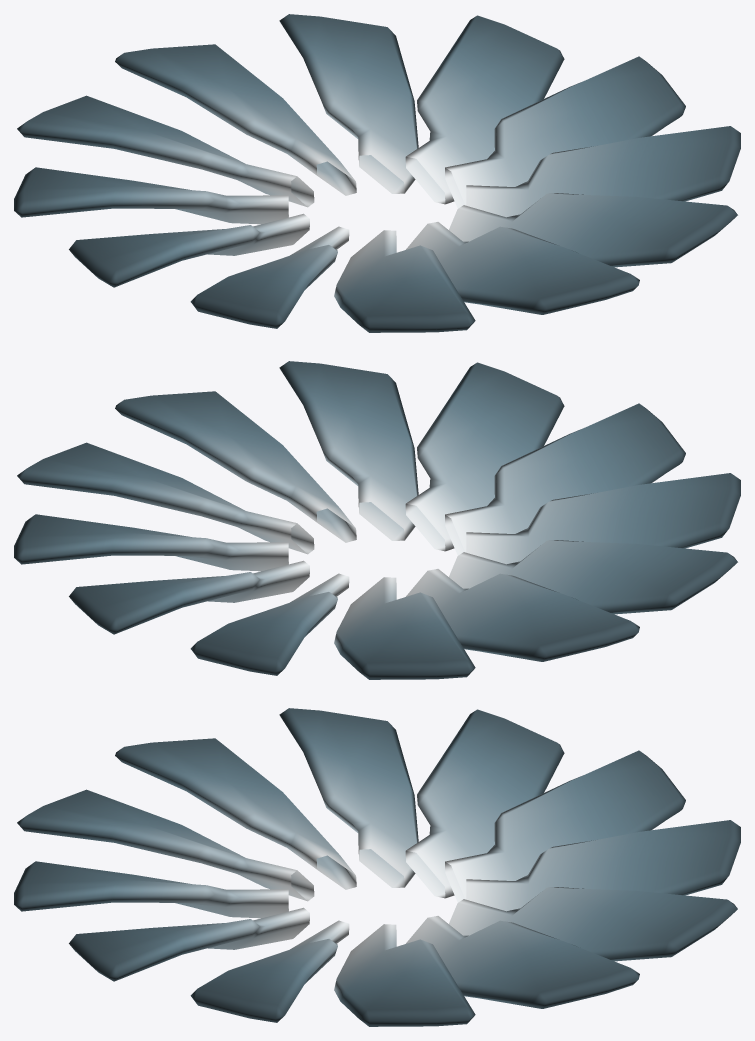
Rendered from cooler_001.fbx.
3 views of the same model, one above another, from view 1: azimuth 30°, elevation 25°; view 2: azimuth 150°, elevation 25°; view 3: azimuth 270°, elevation 25° (orthographic).
Parts seen in each view (by area): view 1: cooler_001; view 2: cooler_001; view 3: cooler_001.
Part boxes in pixels (x1,y1,x2,y2): cooler_001: (14, 14, 740, 332); cooler_001: (14, 361, 740, 679); cooler_001: (14, 708, 740, 1026).
Size of the model in its own units: 624 by 624 by 69.06.
